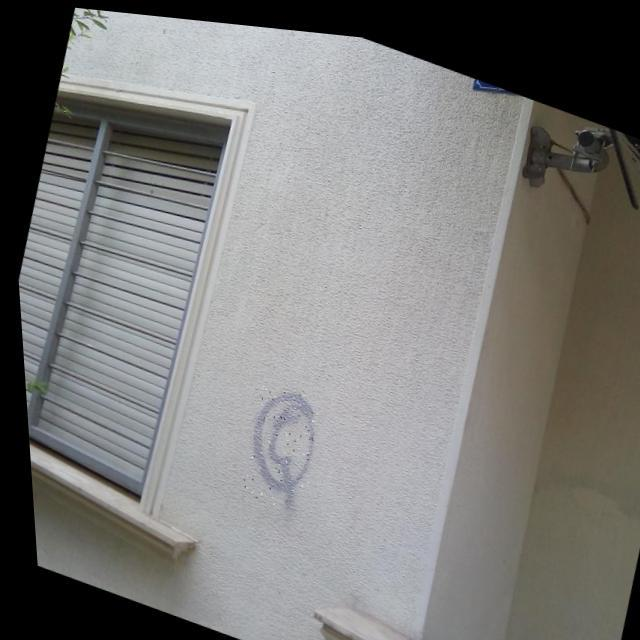-: (227, 374, 325, 511)
